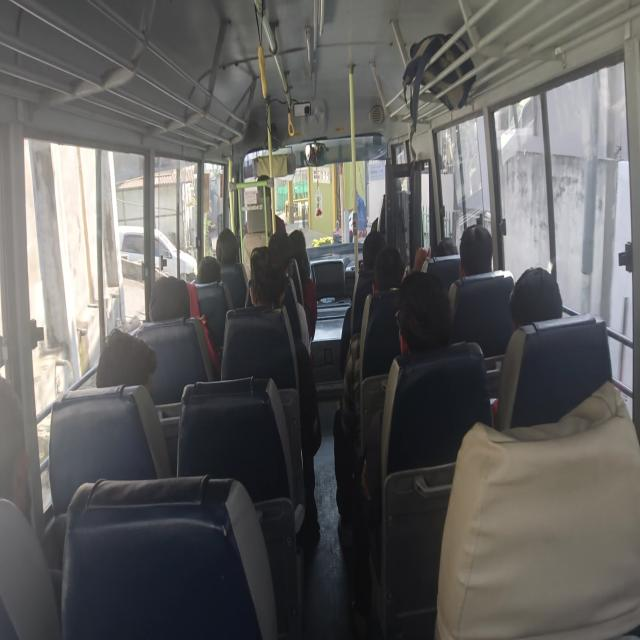person: (0, 370, 43, 522), (396, 263, 452, 355), (507, 259, 572, 331), (94, 325, 158, 392), (243, 245, 291, 321), (149, 274, 209, 333), (460, 218, 498, 284), (372, 240, 405, 295), (196, 247, 226, 294), (285, 218, 311, 271), (432, 227, 461, 271), (210, 227, 242, 264), (265, 224, 297, 259), (361, 227, 385, 263), (254, 172, 278, 205), (381, 172, 405, 205)
